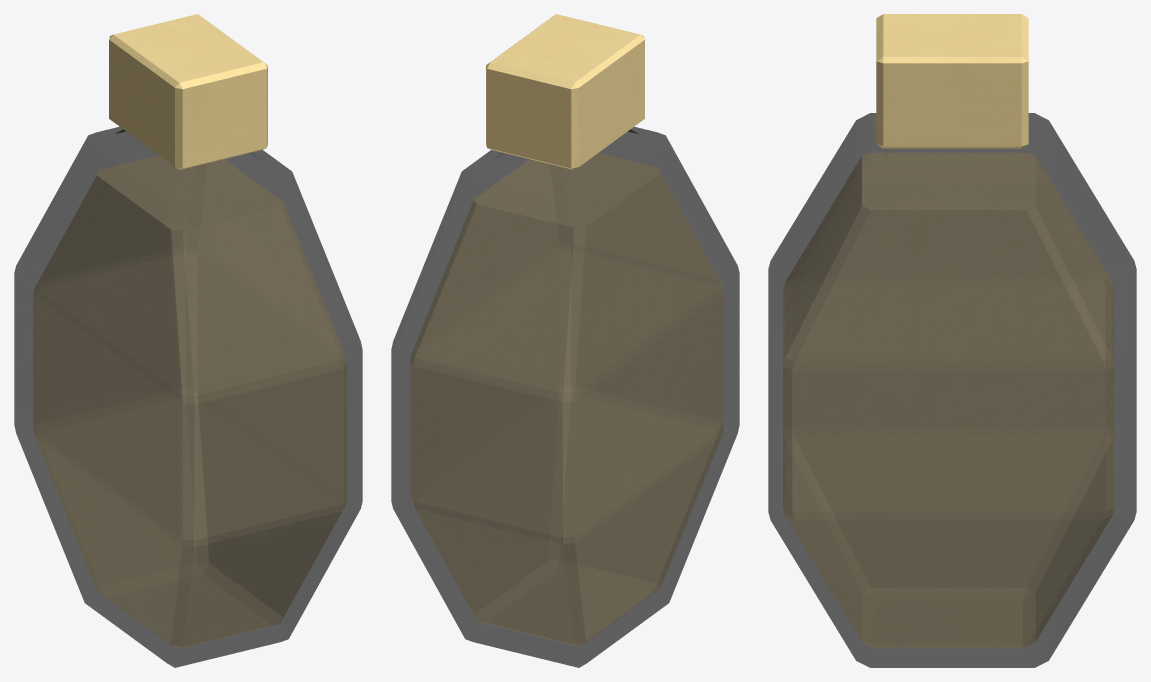
Rendered from bottle_black.glb.
The picture shows the model from 3 angles, left to right: view 1: azimuth 30°, elevation 25°; view 2: azimuth 150°, elevation 25°; view 3: azimuth 270°, elevation 25°; orthographic projection. The views are drawn at different scales.
Visible parts, largest first — view 1: bottle.002, water.002, top.002; view 2: bottle.002, water.002, top.002; view 3: bottle.002, water.002, top.002.
Part boxes in pixels (x1=…): bottle.002: x1=14, y1=126, x2=362, y2=667; water.002: x1=33, y1=155, x2=346, y2=648; top.002: x1=109, y1=14, x2=267, y2=169; bottle.002: x1=391, y1=126, x2=739, y2=667; water.002: x1=410, y1=153, x2=723, y2=646; top.002: x1=486, y1=14, x2=644, y2=169; bottle.002: x1=768, y1=113, x2=1136, y2=667; water.002: x1=783, y1=153, x2=1114, y2=648; top.002: x1=876, y1=14, x2=1028, y2=148.
Size of the model in its own units: 1.2 by 3.63 by 2.
Materials: 3 (3 with a texture image).
